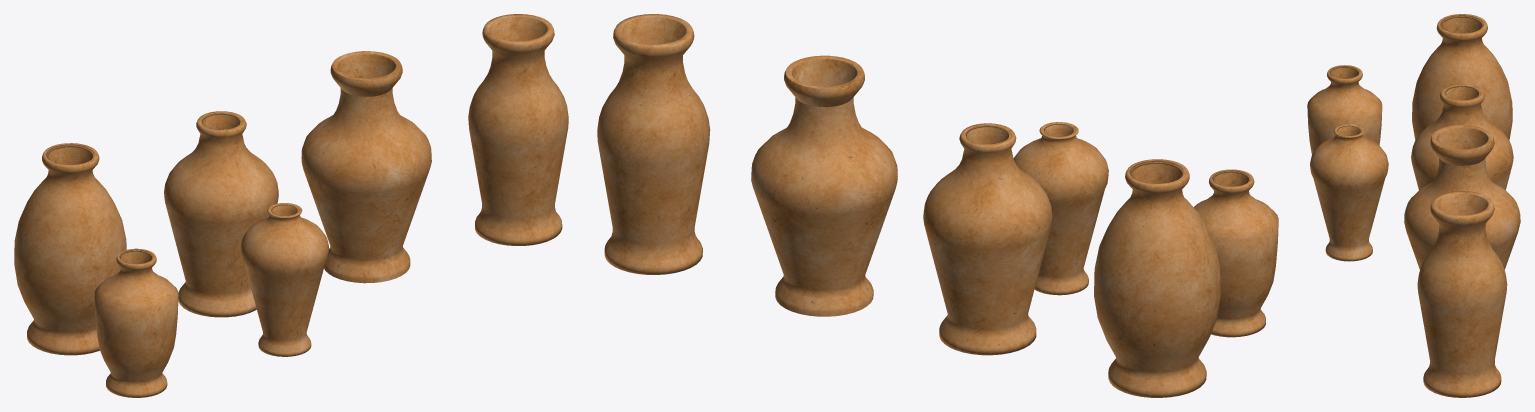
3 views of the same model, side by side, from view 1: azimuth 30°, elevation 25°; view 2: azimuth 150°, elevation 25°; view 3: azimuth 270°, elevation 25° (orthographic). The views are drawn at different scales.
Visible parts, largest first — view 1: Bottle03_1, Bottle04_0, Bottle01_3, Bottle02_2, Bottle01-small_4, Bottle02-small_5; view 2: Bottle03_1, Bottle01_3, Bottle04_0, Bottle02_2, Bottle02-small_5, Bottle01-small_4; view 3: Bottle04_0, Bottle02-small_5, Bottle03_1, Bottle01_3, Bottle02_2, Bottle01-small_4.
Boxes of the visible parts, x1,y1,x2,y2 form: Bottle03_1: (301,51,431,283); Bottle04_0: (468,14,568,245); Bottle01_3: (14,143,126,355); Bottle02_2: (164,111,278,317); Bottle01-small_4: (94,248,178,397); Bottle02-small_5: (240,203,328,356); Bottle03_1: (751,55,897,316); Bottle01_3: (1094,159,1220,397); Bottle04_0: (597,14,710,274); Bottle02_2: (923,123,1052,355); Bottle02-small_5: (1013,122,1108,295); Bottle01-small_4: (1193,169,1278,337); Bottle04_0: (1417,191,1507,397); Bottle02-small_5: (1310,124,1388,261); Bottle03_1: (1404,125,1520,269); Bottle01_3: (1412,14,1512,139); Bottle02_2: (1411,84,1513,190); Bottle01-small_4: (1307,65,1382,154).
Bounding box in the file's own units: 2.39 × 0.8409 × 0.9161.
Materials: 4 (4 with a texture image).
